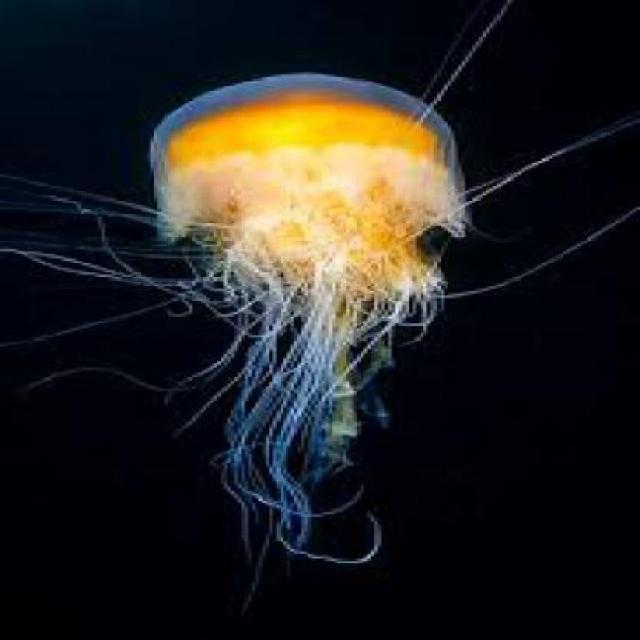Jellyfish: (104, 70, 487, 596)
